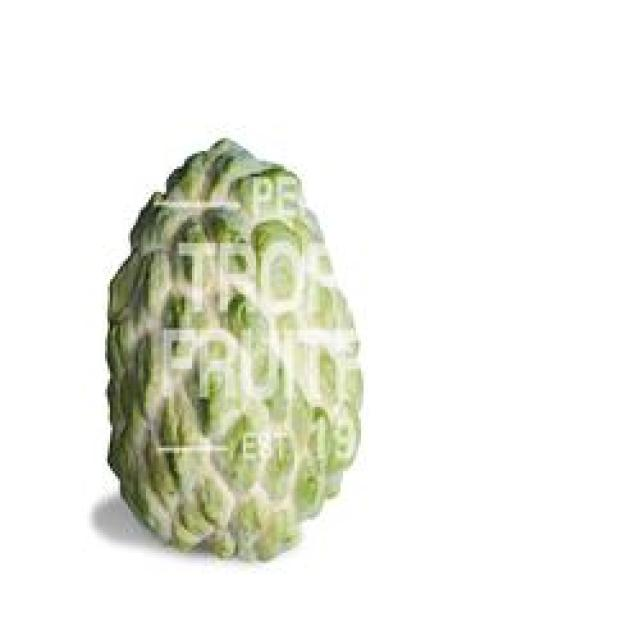apple: (90, 123, 376, 566)
